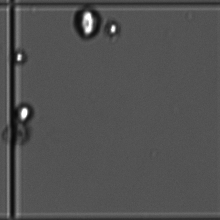Dead Cell: (2, 122, 31, 147)
Living Cell: (69, 5, 105, 41), (16, 101, 40, 125), (105, 18, 127, 40), (11, 48, 29, 67)
